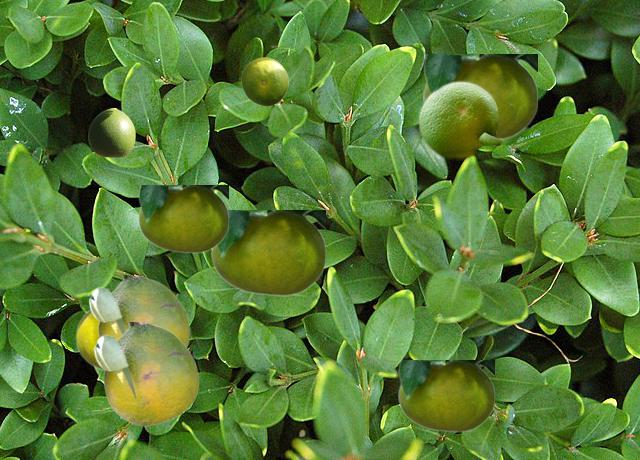dalandan: (93, 322, 198, 425), (211, 210, 324, 295), (423, 54, 536, 139), (88, 275, 189, 347), (417, 79, 504, 159), (398, 360, 493, 431), (138, 185, 227, 252), (88, 108, 134, 156), (241, 57, 287, 105), (75, 310, 103, 370)
